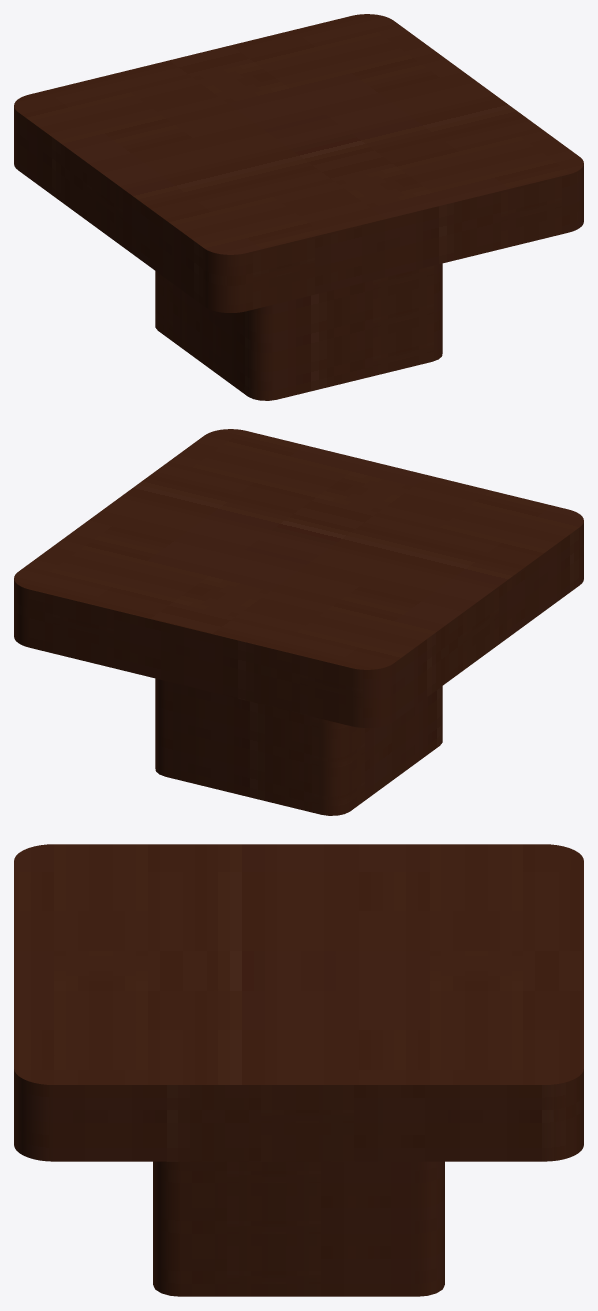
File: table.glb
The picture shows the model from 3 angles, top to bottom: view 1: azimuth 30°, elevation 25°; view 2: azimuth 150°, elevation 25°; view 3: azimuth 270°, elevation 25°; orthographic projection. The views are drawn at different scales.
Visible parts, largest first — view 1: table_ouija; view 2: table_ouija; view 3: table_ouija.
Boxes of the visible parts, x1,y1,x2,y2 form: table_ouija: (14,14,583,400); table_ouija: (14,429,583,815); table_ouija: (14,844,583,1296).
Size of the model in its own units: 1.27 by 0.6623 by 1.27.
Materials: 1 (1 with a texture image).
